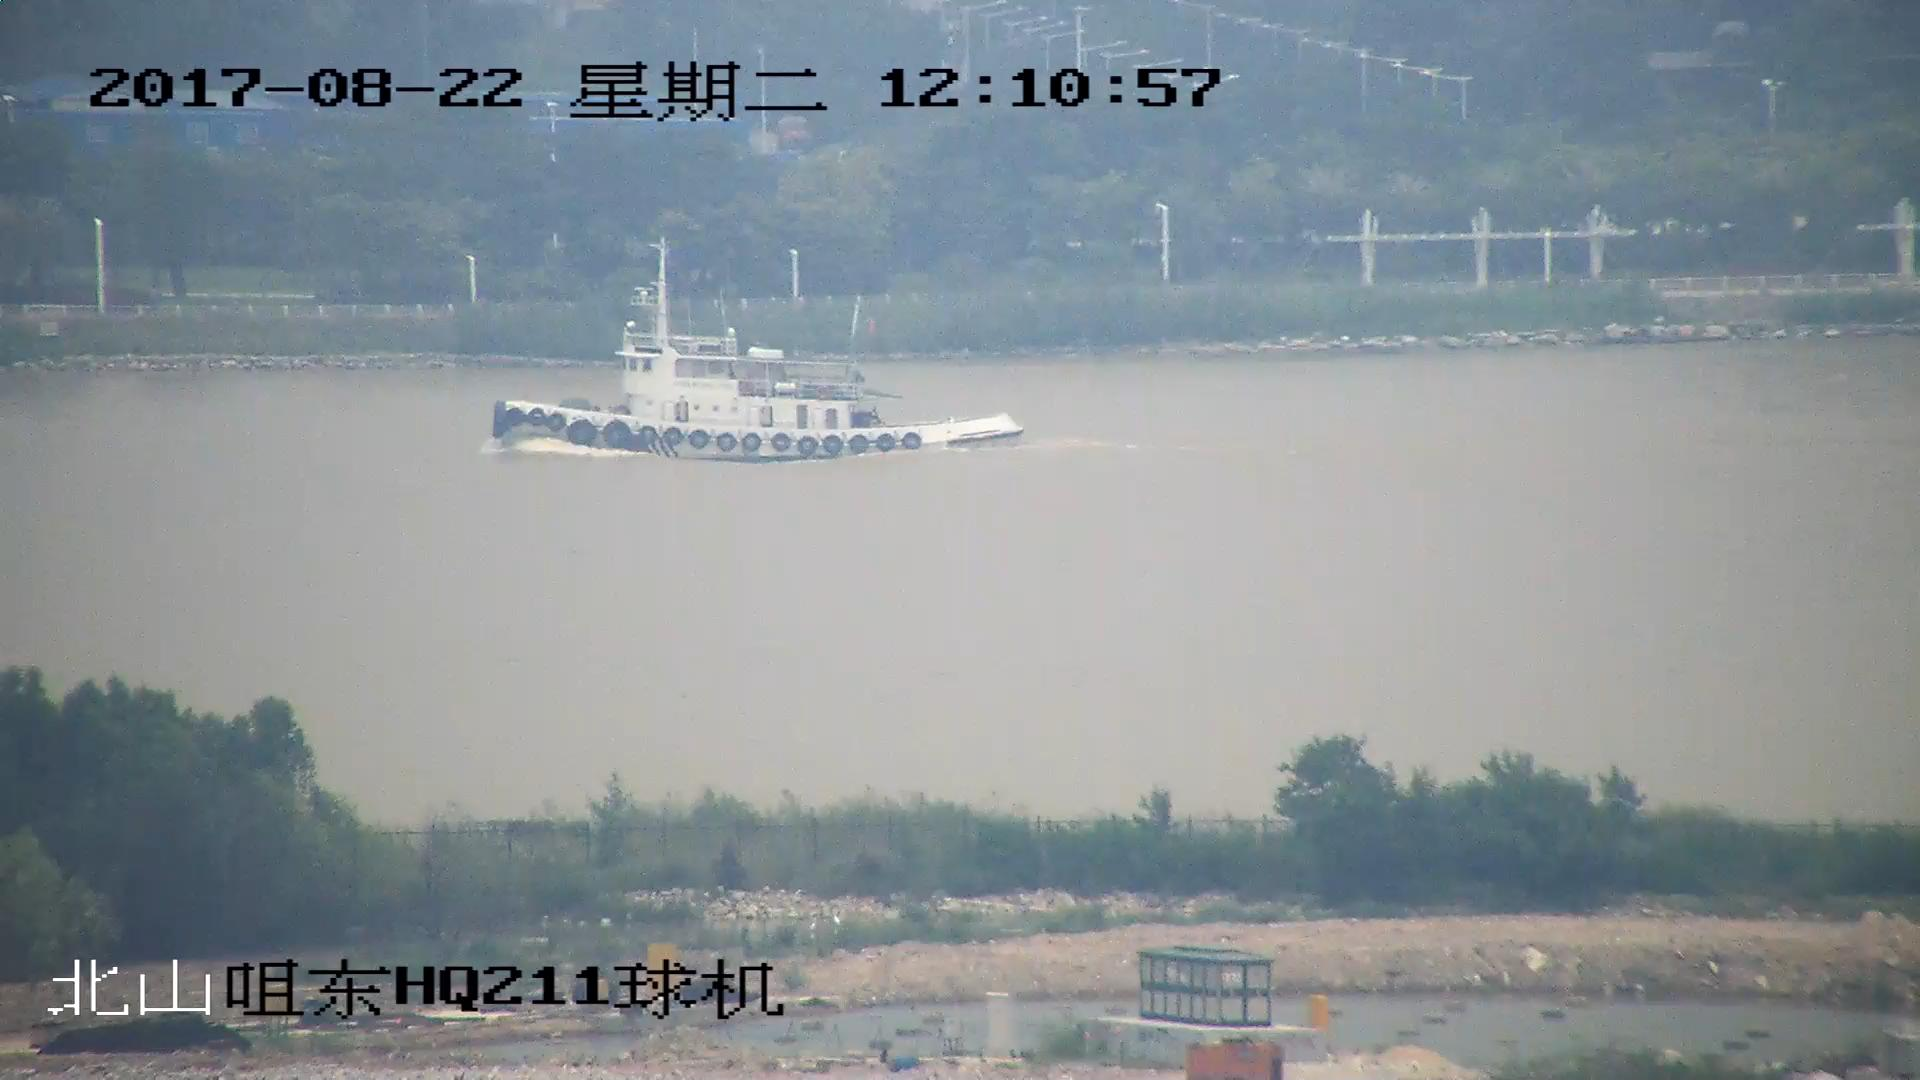passenger ship: (478, 246, 1028, 474)
